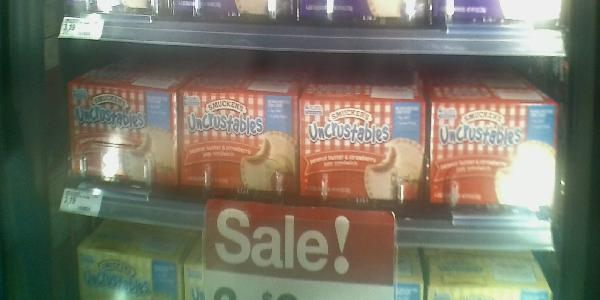icecream: (429, 98, 561, 214), (300, 93, 426, 212), (180, 85, 301, 203), (65, 76, 180, 196)
